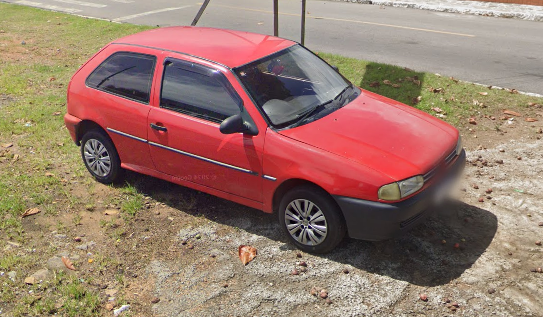car: (61, 22, 472, 256)
